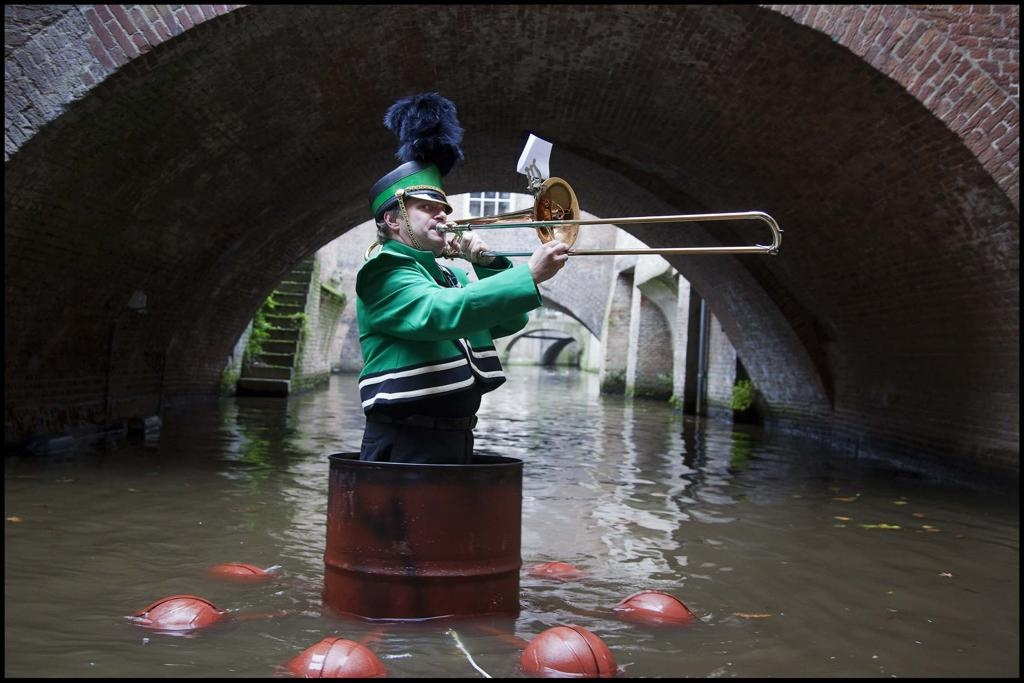human_face: (396, 184, 448, 245)
